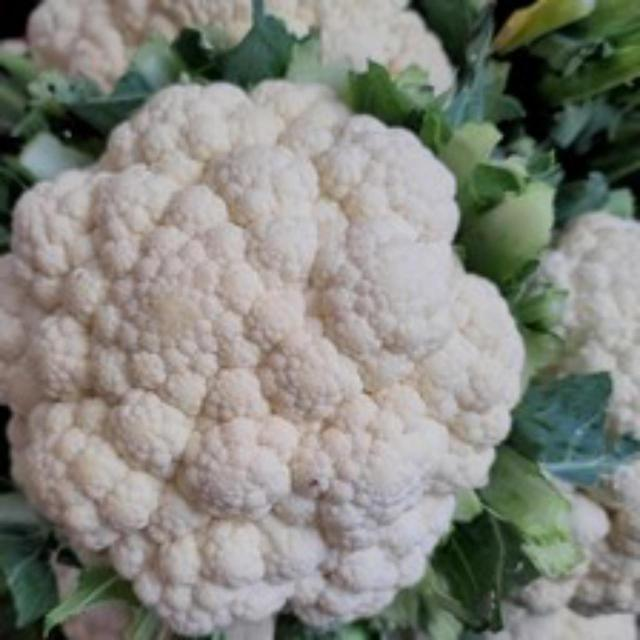cauliflower: (6, 91, 546, 637)
